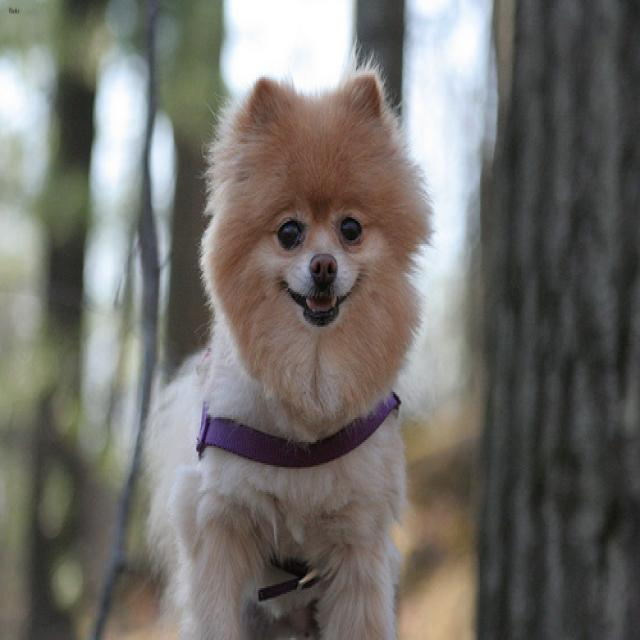dog-pomeranian: (134, 60, 433, 636)
